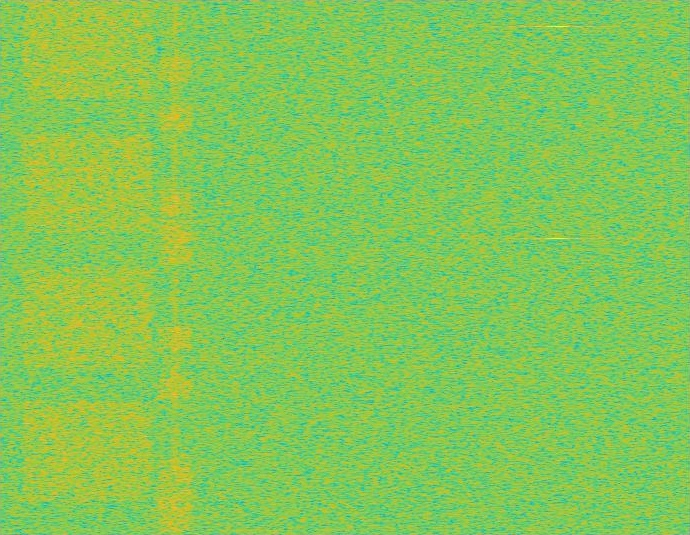5G: (18, 0, 156, 534)
DSSS: (172, 0, 179, 534)
LTE: (158, 0, 193, 534)
Radar: (551, 0, 564, 534)
